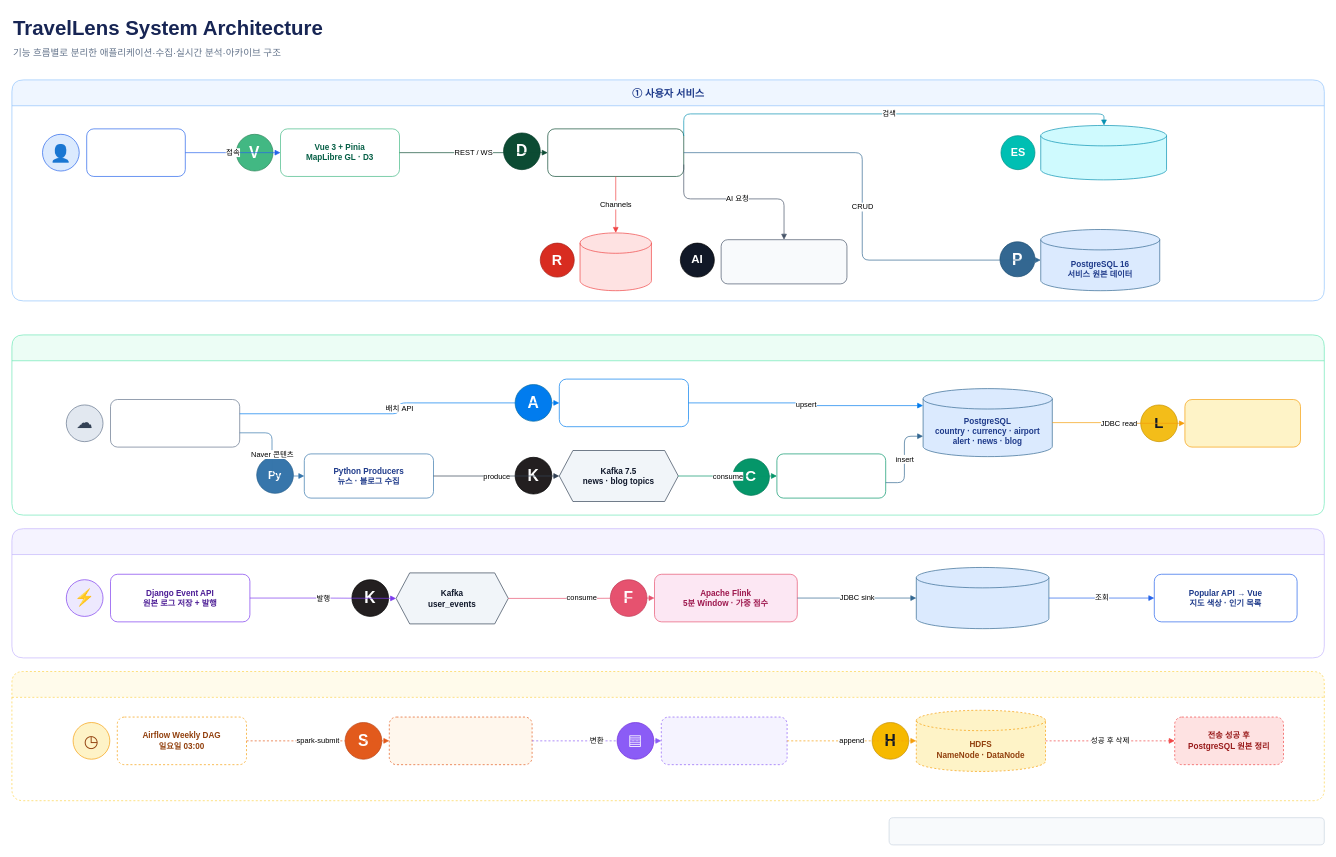
This 1336x857 diagram has some shape labels left out. The shapes that lost their labels are listed below. From the top down, each one's box as (x1, y1, x2, y2) in pixels, then its label:
(86, 128, 185, 176): 사용자 Web Browser
(547, 128, 684, 176): Django REST API JWT · 여행 · 검색 · 로그
(1040, 125, 1167, 180): Elasticsearch 국가 · 뉴스 · 블로그 검색
(579, 232, 651, 291): Redis 7 Channels Message Broker
(720, 239, 847, 284): OpenAI Responses API 검색·DB 기반 답변
(559, 378, 688, 427): Airflow 환율 · 항공료 · 여행경보
(110, 399, 240, 447): 외부 API Naver · Amadeus · 외교부
(11, 334, 1324, 515): ② 외부 데이터 수집 · 검색 색인
(1184, 399, 1300, 447): Logstash JDBC → Elasticsearch 1분 / 5분 주기 색인
(776, 453, 886, 498): Consumers PostgreSQL 저장
(11, 528, 1324, 658): ③ 실시간 인기도 분석
(916, 567, 1049, 629): PostgreSQL country_popularity
(389, 716, 532, 765): PySpark local[*] 1년 이상 콘텐츠 조회
(11, 671, 1324, 801): ④ 장기 데이터 아카이브 PoC
(661, 716, 787, 765): Parquet 변환 iso2 파티셔닝
(888, 817, 1324, 845): 아이콘 배지 = 기술/역할 · 실선 = 운영 경로 · 점선 = PoC 경로
